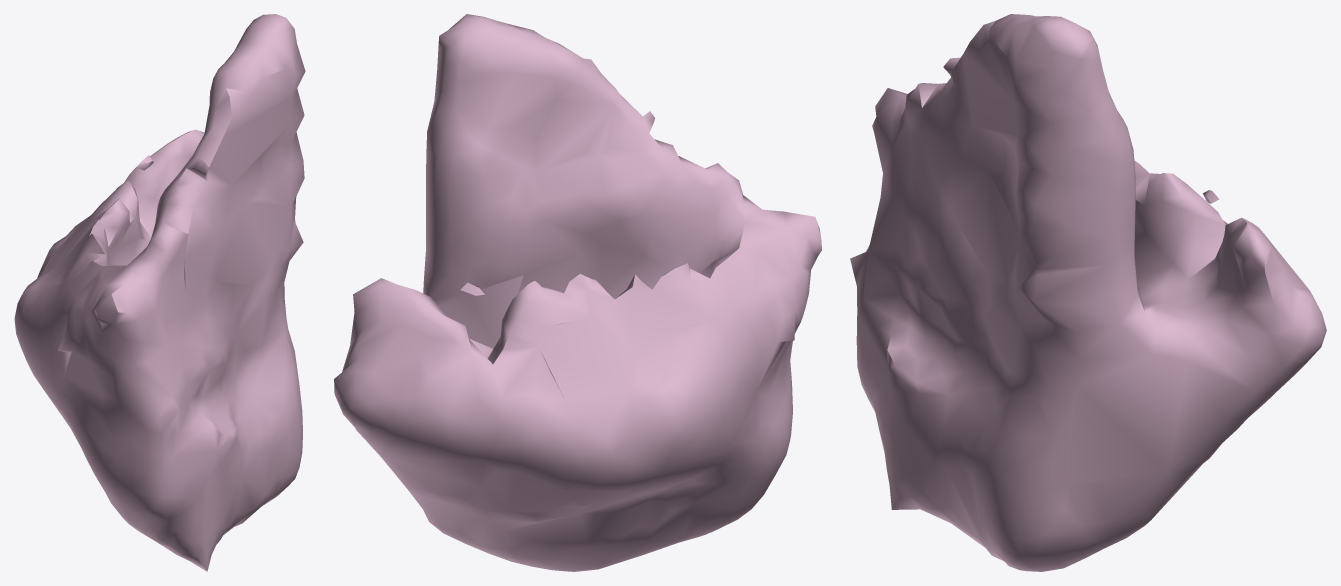
Rendered from spl-351.glb.
3 renders of one model, left to right at view 1: azimuth 30°, elevation 25°; view 2: azimuth 150°, elevation 25°; view 3: azimuth 270°, elevation 25°, orthographic. The views are drawn at different scales.
Visible parts, largest first — view 1: spl-351; view 2: spl-351; view 3: spl-351.
Part boxes in pixels (x1=…): spl-351: x1=14, y1=14, x2=305, y2=571; spl-351: x1=334, y1=14, x2=821, y2=571; spl-351: x1=850, y1=14, x2=1326, y2=571.
Bounding box in the file's own units: 13.12 × 21.86 × 16.48.
